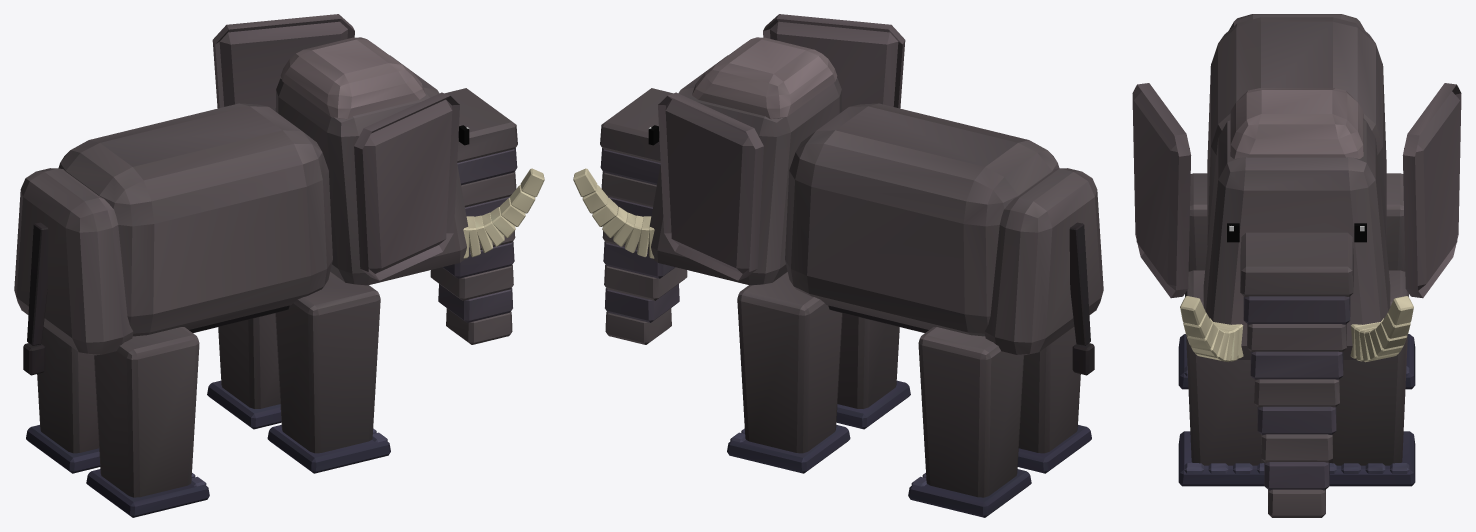
The model's file is elephant.glb.
3 renders of one model, left to right at view 1: azimuth 30°, elevation 25°; view 2: azimuth 150°, elevation 25°; view 3: azimuth 270°, elevation 25°, orthographic. The views are drawn at different scales.
Visible parts, largest first — view 1: elephant; view 2: elephant; view 3: elephant.
Part boxes in pixels (<box>): elephant: <box>14,14,544,517</box>; elephant: <box>573,14,1103,517</box>; elephant: <box>1132,14,1461,517</box>.
Bounding box in the file's own units: 4.72 × 3.39 × 2.58.
